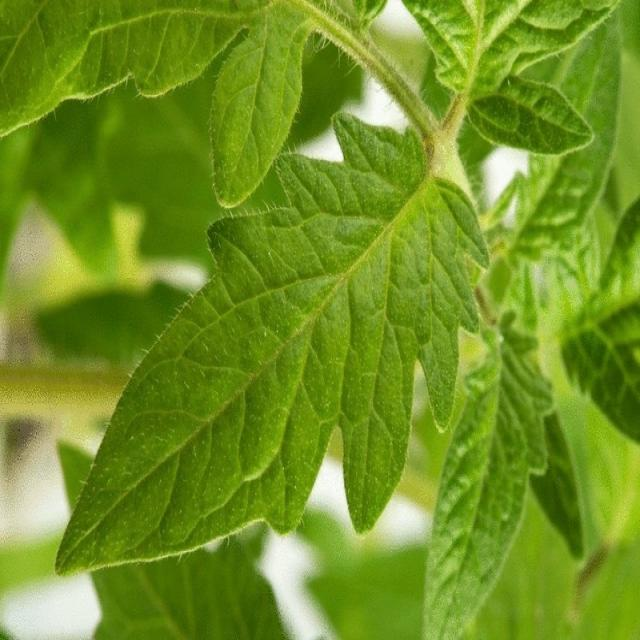Healthy Leaf: (55, 112, 485, 586), (422, 318, 541, 638), (469, 71, 590, 163)
